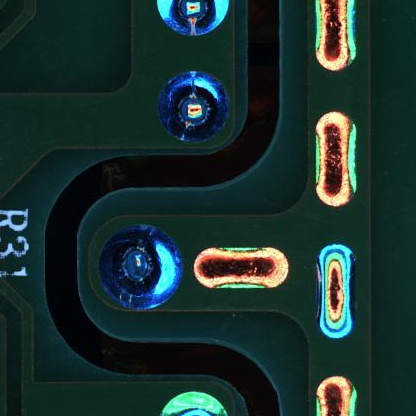spot: (90, 213, 184, 315), (156, 64, 236, 156)
